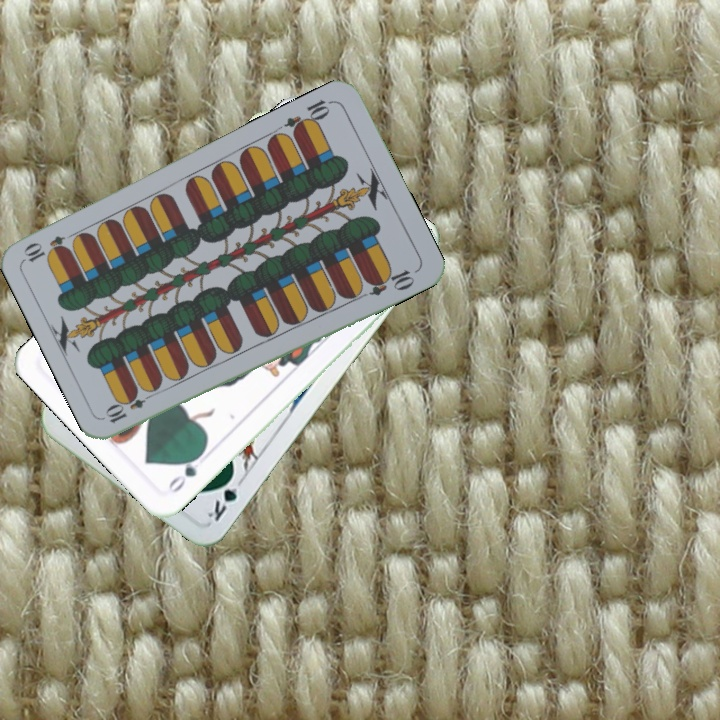E10: (281, 95, 336, 138), (102, 387, 158, 426)
GK: (203, 469, 247, 525)
GO: (163, 448, 206, 496)
